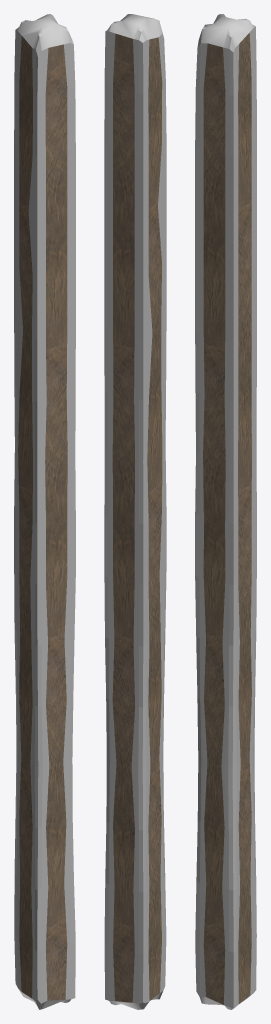
File: WoodBeamD.fbx
3 renders of one model, left to right at view 1: azimuth 30°, elevation 25°; view 2: azimuth 150°, elevation 25°; view 3: azimuth 330°, elevation 25°, orthographic.
Visible parts, largest first — view 1: WoodBeamD; view 2: WoodBeamD; view 3: WoodBeamD.
Part boxes in pixels (<box>): WoodBeamD: <box>14,14,75,1009</box>; WoodBeamD: <box>104,14,166,1009</box>; WoodBeamD: <box>195,14,256,1009</box>.
Size of the model in its own units: 15.5 by 374 by 16.
